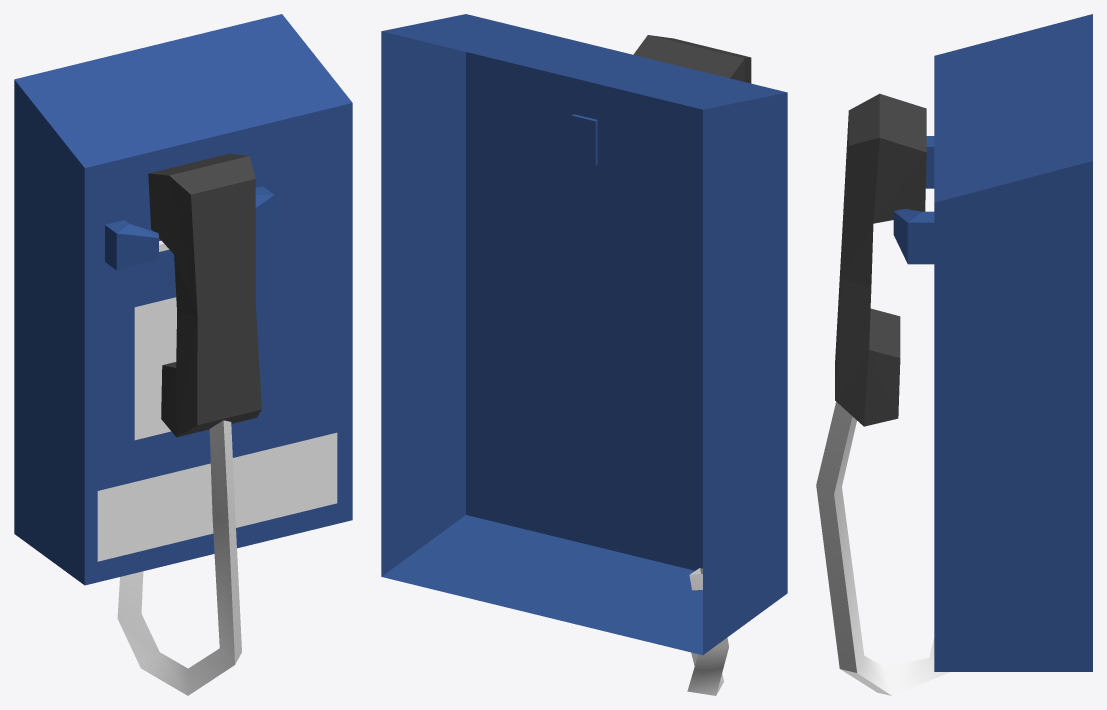
The model's file is SM_Tel_02.FBX.
3 renders of one model, left to right at view 1: azimuth 30°, elevation 25°; view 2: azimuth 150°, elevation 25°; view 3: azimuth 270°, elevation 25°, orthographic. The views are drawn at different scales.
Parts seen in each view (by area): view 1: SM_Tel_02; view 2: SM_Tel_02; view 3: SM_Tel_02.
Part boxes in pixels (x1,y1,x2,y2): SM_Tel_02: [14, 14, 352, 695]; SM_Tel_02: [381, 14, 787, 695]; SM_Tel_02: [816, 14, 1092, 695].
Size of the model in its own units: 20.63 by 16.41 by 41.62.
